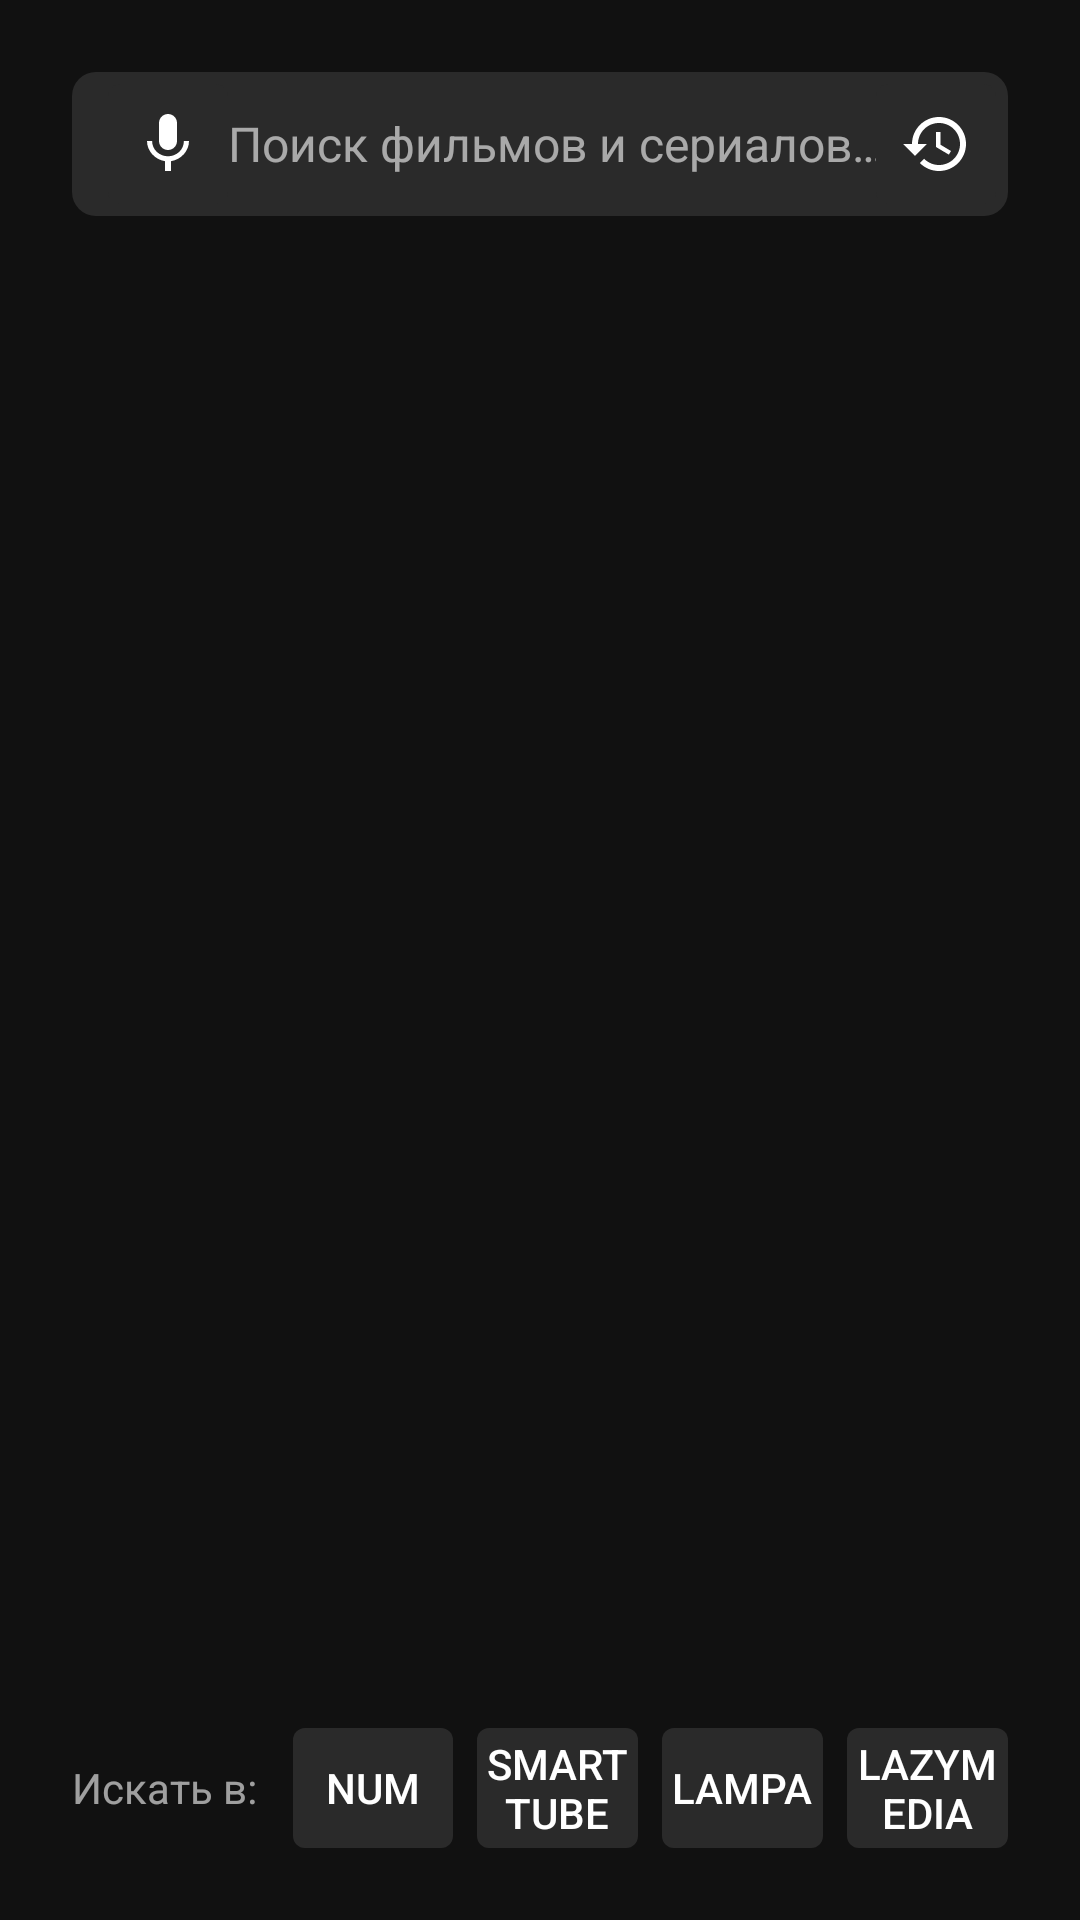

Screen size 1080x1920. Icon name, then its box in pixels as [left=x1, top=y1, right=x2, bottom=y2]:
Голосовой поиск: [left=147, top=114, right=189, bottom=171]
История: [left=903, top=117, right=966, bottom=171]
